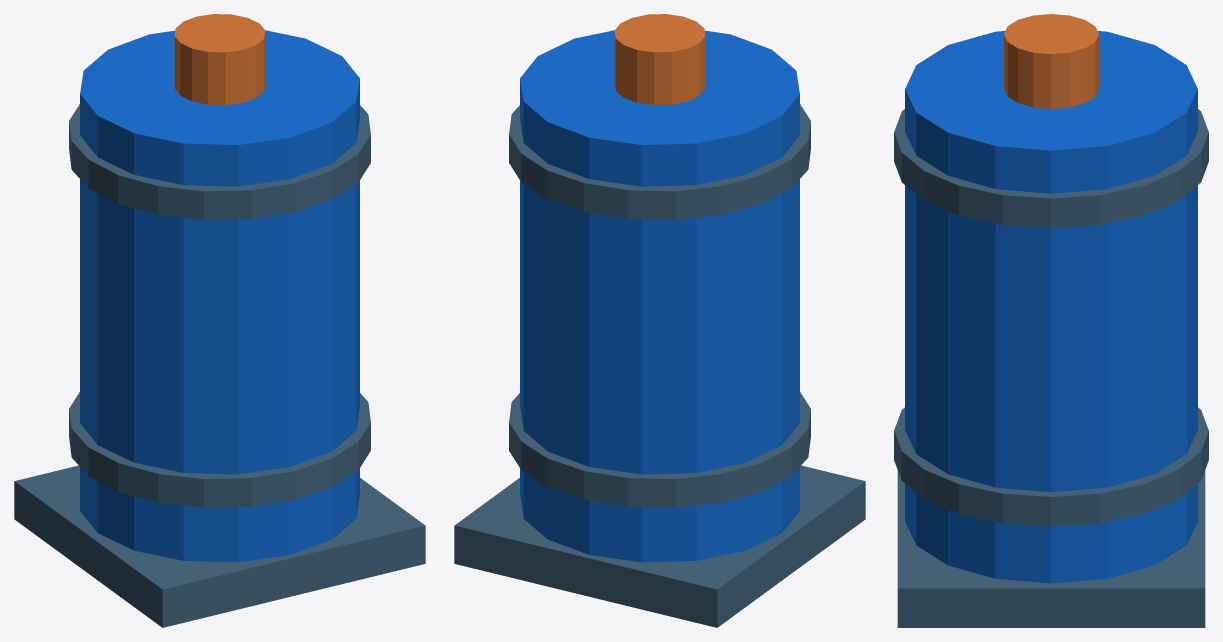
Rendered from 18_L69_SuctionAccumulator.fbx.
3 renders of one model, left to right at view 1: azimuth 30°, elevation 25°; view 2: azimuth 150°, elevation 25°; view 3: azimuth 270°, elevation 25°, orthographic. The views are drawn at different scales.
Parts seen in each view (by area): view 1: SuctionAccumulator; view 2: SuctionAccumulator; view 3: SuctionAccumulator.
Boxes of the visible parts, <box> form: SuctionAccumulator: <box>14,14,425,627</box>; SuctionAccumulator: <box>454,14,865,627</box>; SuctionAccumulator: <box>894,14,1208,627</box>.
Bounding box in the file's own units: 86 × 159 × 86.
